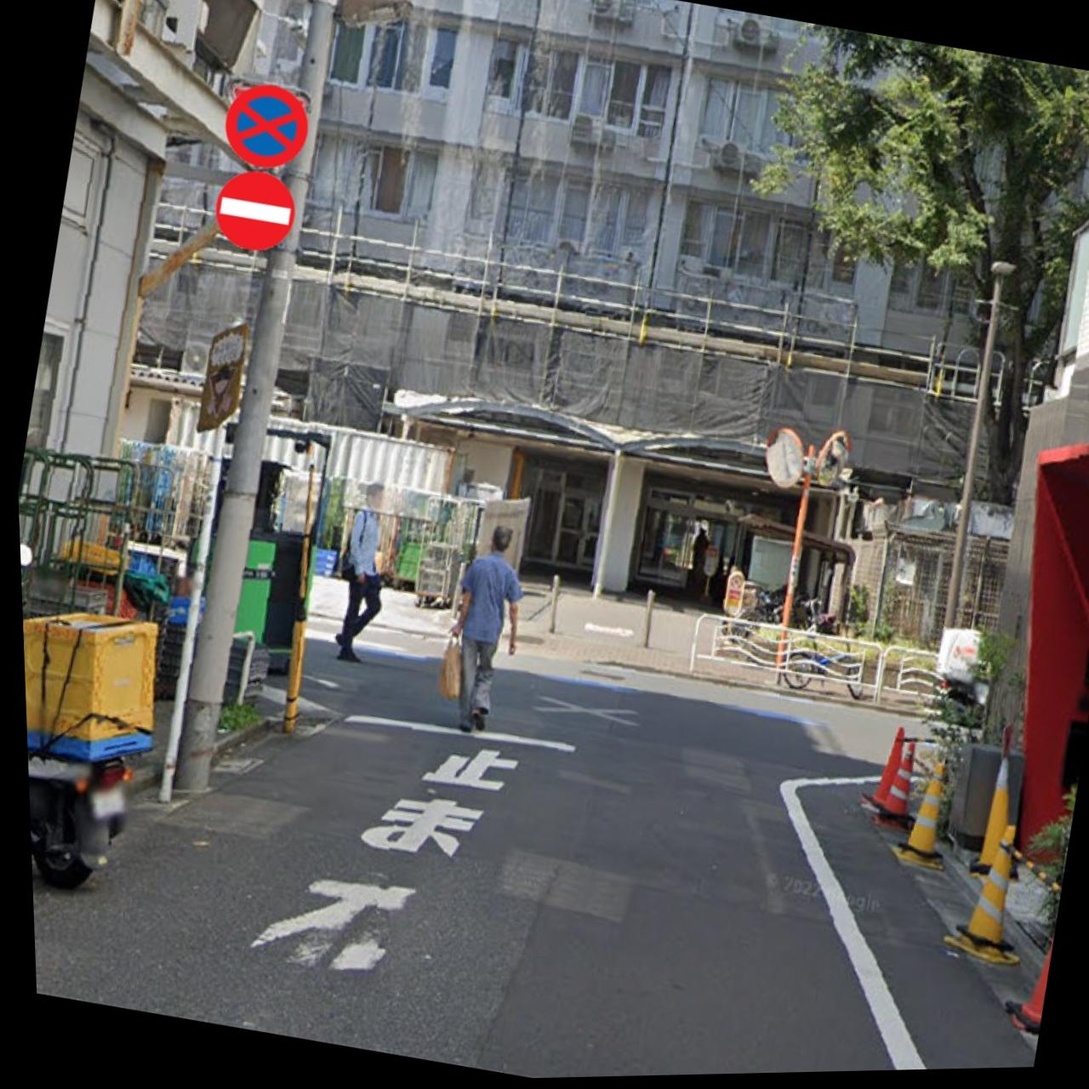barrier: (199, 166, 307, 259)
stop_sign: (213, 73, 317, 180)
